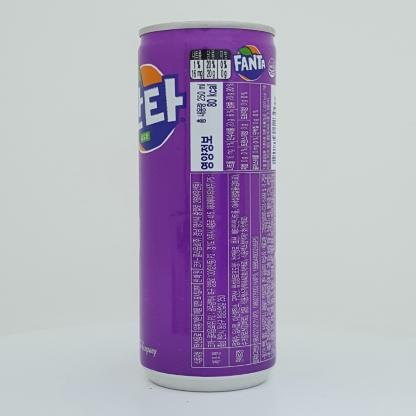------250ML: (137, 20, 277, 392)
